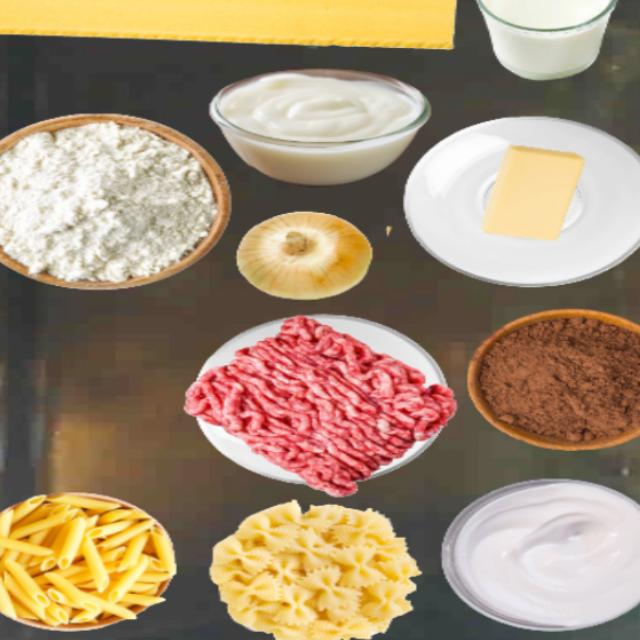Cocoa: (469, 309, 639, 450)
Flour: (0, 119, 217, 283)
